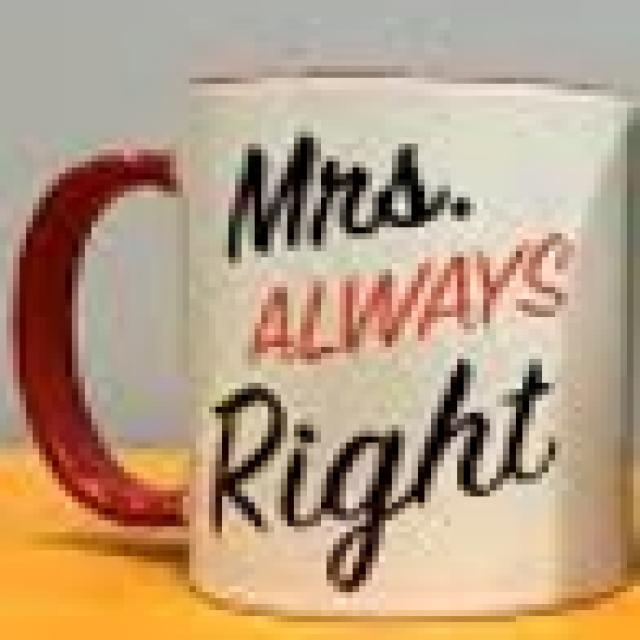taza: (7, 62, 634, 617)
